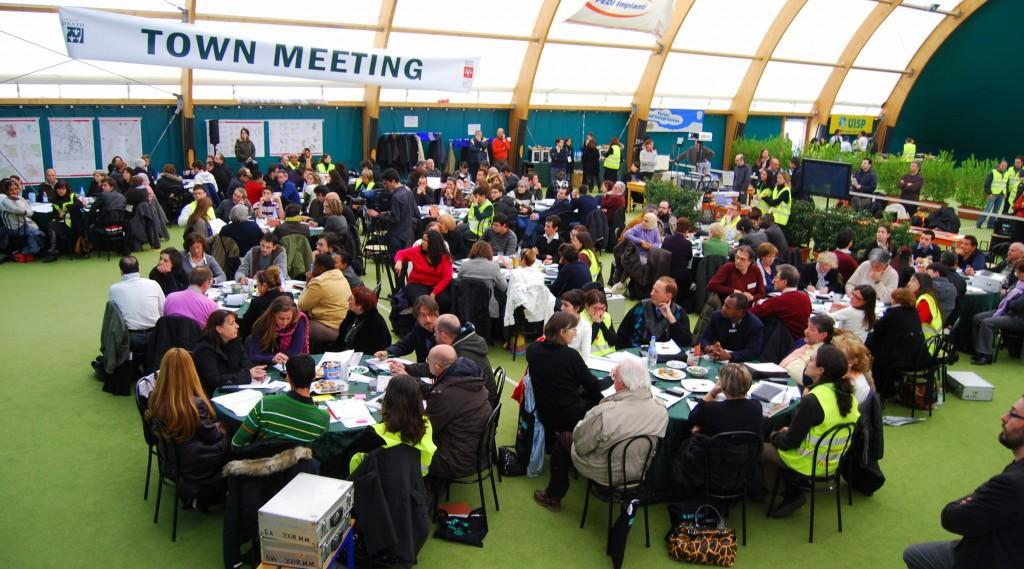face: (1000, 396, 1024, 447), (804, 352, 822, 376), (419, 309, 437, 331), (223, 316, 239, 339), (722, 296, 738, 319), (651, 282, 667, 304), (836, 348, 849, 375), (804, 325, 821, 345), (275, 312, 293, 329), (560, 301, 576, 319), (614, 369, 627, 391), (905, 274, 920, 293), (427, 356, 440, 377), (590, 304, 607, 320), (347, 295, 360, 315), (736, 251, 749, 271), (851, 288, 864, 308), (159, 254, 172, 273), (434, 325, 447, 344), (914, 259, 928, 275), (566, 326, 578, 344), (772, 272, 784, 290), (313, 261, 325, 277), (261, 242, 274, 256), (316, 240, 329, 254), (1007, 245, 1019, 260), (190, 244, 204, 256), (877, 228, 889, 242), (257, 279, 268, 294), (333, 256, 345, 269), (871, 260, 882, 274), (572, 236, 582, 251), (430, 226, 441, 239), (920, 235, 931, 248), (962, 239, 973, 252), (647, 208, 658, 220), (439, 219, 448, 233), (766, 254, 777, 265), (421, 236, 429, 251), (9, 187, 19, 199), (660, 203, 669, 216), (1014, 268, 1023, 281), (232, 192, 242, 203), (474, 194, 485, 204), (823, 261, 833, 272), (543, 254, 553, 265), (323, 202, 332, 214), (557, 188, 566, 200), (546, 221, 554, 234), (58, 186, 68, 196), (47, 172, 57, 182), (262, 191, 272, 201), (928, 269, 938, 279), (195, 191, 206, 200), (419, 179, 428, 190), (493, 221, 502, 232), (642, 218, 651, 229), (728, 206, 737, 217), (278, 174, 287, 184), (776, 175, 785, 185), (492, 191, 500, 202), (491, 178, 500, 187), (383, 181, 392, 190), (910, 163, 919, 172), (999, 161, 1008, 170), (123, 171, 131, 181), (101, 183, 109, 193), (476, 172, 484, 182), (518, 253, 524, 266), (735, 157, 742, 168), (446, 182, 455, 190), (532, 177, 540, 186), (307, 176, 314, 186), (761, 170, 768, 180), (94, 173, 102, 181), (144, 157, 152, 165), (304, 172, 312, 180), (630, 165, 638, 173), (115, 159, 122, 168), (216, 155, 223, 164), (241, 132, 248, 141), (258, 174, 265, 183), (612, 185, 619, 194), (646, 142, 653, 151), (274, 168, 280, 178), (292, 154, 298, 164), (519, 183, 525, 193), (572, 189, 578, 199), (695, 143, 701, 153), (429, 161, 436, 169), (480, 167, 488, 174), (497, 130, 504, 138), (1016, 160, 1023, 168), (240, 176, 249, 182), (316, 193, 322, 202), (601, 183, 607, 192), (567, 139, 573, 148), (775, 160, 781, 169), (863, 160, 869, 169), (475, 133, 482, 140), (559, 173, 566, 180), (305, 151, 311, 159), (752, 219, 758, 227), (283, 157, 288, 166), (790, 161, 795, 170), (192, 165, 198, 172), (763, 151, 770, 157), (327, 156, 332, 164), (361, 176, 366, 184), (207, 165, 213, 171), (462, 166, 468, 172), (207, 158, 214, 163), (558, 140, 563, 147), (838, 131, 843, 138), (502, 170, 507, 177), (423, 164, 427, 172), (860, 132, 865, 138), (820, 139, 824, 145), (588, 136, 592, 140)
